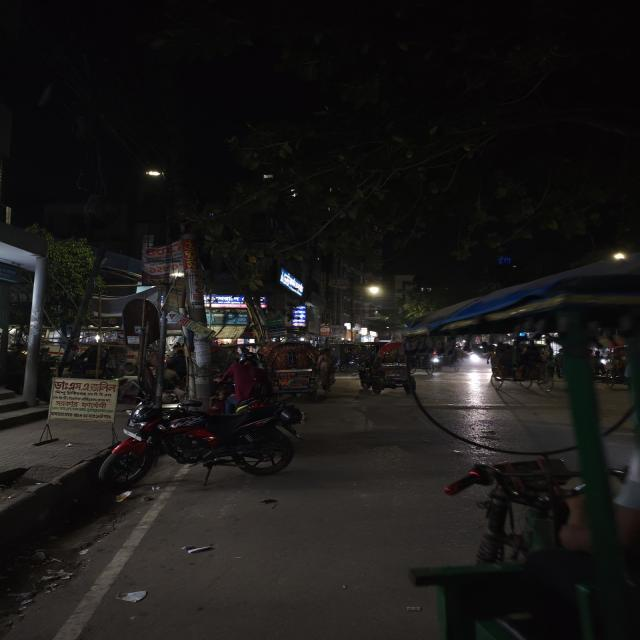motorcycle: (77, 392, 311, 492)
rickshaw: (261, 338, 335, 403), (484, 338, 556, 394), (357, 341, 424, 397)
